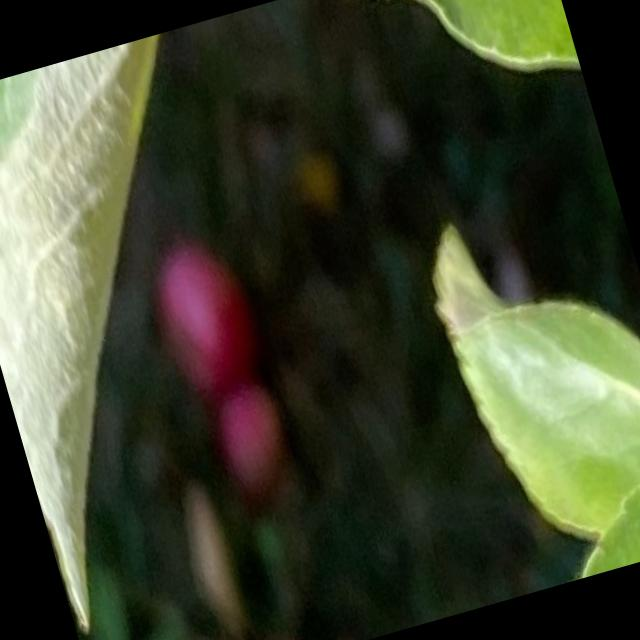Apples: (146, 237, 263, 400), (214, 382, 295, 496)
